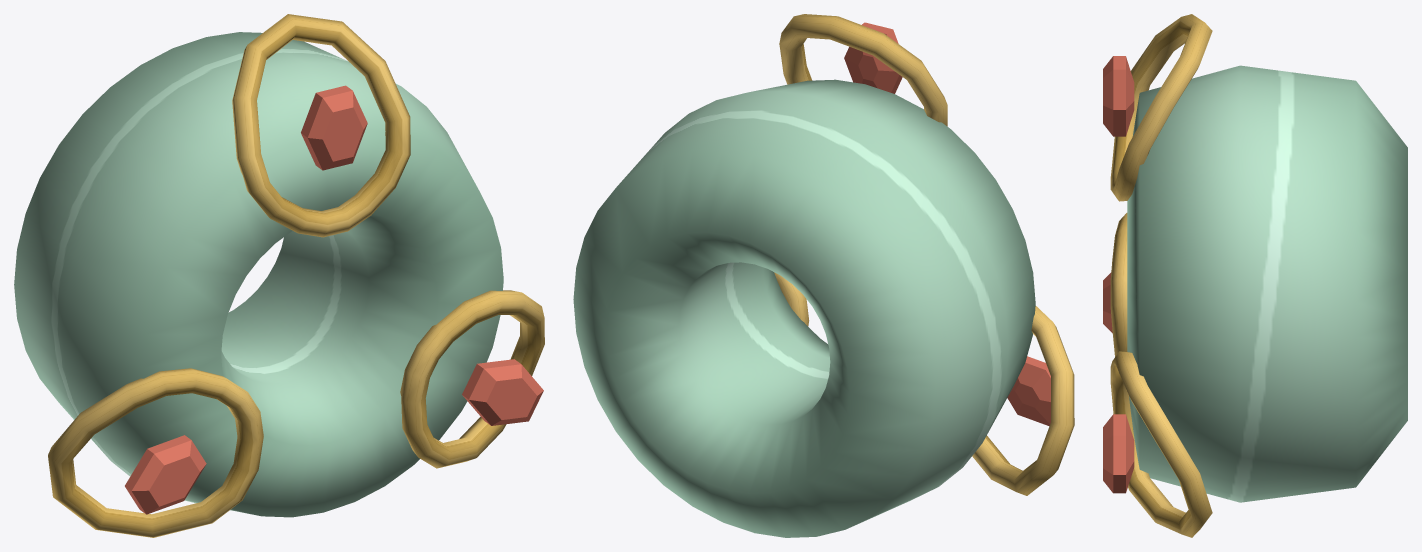
The model's file is thrice_blessed_bead.obj.
The picture shows the model from 3 angles, left to right: view 1: azimuth 30°, elevation 25°; view 2: azimuth 150°, elevation 25°; view 3: azimuth 270°, elevation 25°; orthographic projection. The views are drawn at different scales.
Visible parts, largest first — view 1: A_OpalescentDrilledBead.001_thrice_blessed_bead_glass, B_LinkedPrayerLeaf0.001_thrice_blessed_bead_gold, B_LinkedPrayerLeaf2.001_thrice_blessed_bead_gold, B_LinkedPrayerLeaf1.001_thrice_blessed_bead_gold, C_PrayerStone2.001_thrice_blessed_bead_prayer_stones, C_PrayerStone0.001_thrice_blessed_bead_prayer_stones, C_PrayerStone1.001_thrice_blessed_bead_prayer_stones; view 2: A_OpalescentDrilledBead.001_thrice_blessed_bead_glass, B_LinkedPrayerLeaf0.001_thrice_blessed_bead_gold, B_LinkedPrayerLeaf2.001_thrice_blessed_bead_gold, C_PrayerStone2.001_thrice_blessed_bead_prayer_stones, C_PrayerStone0.001_thrice_blessed_bead_prayer_stones, B_LinkedPrayerLeaf1.001_thrice_blessed_bead_gold; view 3: A_OpalescentDrilledBead.001_thrice_blessed_bead_glass, B_LinkedPrayerLeaf1.001_thrice_blessed_bead_gold, B_LinkedPrayerLeaf0.001_thrice_blessed_bead_gold, C_PrayerStone0.001_thrice_blessed_bead_prayer_stones, C_PrayerStone1.001_thrice_blessed_bead_prayer_stones, B_LinkedPrayerLeaf2.001_thrice_blessed_bead_gold, C_PrayerStone2.001_thrice_blessed_bead_prayer_stones.
Boxes of the visible parts, left/top/right/bottom form: A_OpalescentDrilledBead.001_thrice_blessed_bead_glass: left=14, top=32, right=503, bottom=517; B_LinkedPrayerLeaf0.001_thrice_blessed_bead_gold: left=232, top=14, right=410, bottom=237; B_LinkedPrayerLeaf2.001_thrice_blessed_bead_gold: left=48, top=368, right=263, bottom=537; B_LinkedPrayerLeaf1.001_thrice_blessed_bead_gold: left=400, top=290, right=544, bottom=468; C_PrayerStone2.001_thrice_blessed_bead_prayer_stones: left=125, top=435, right=206, bottom=514; C_PrayerStone0.001_thrice_blessed_bead_prayer_stones: left=301, top=85, right=367, bottom=170; C_PrayerStone1.001_thrice_blessed_bead_prayer_stones: left=462, top=359, right=543, bottom=425; A_OpalescentDrilledBead.001_thrice_blessed_bead_glass: left=573, top=79, right=1035, bottom=537; B_LinkedPrayerLeaf0.001_thrice_blessed_bead_gold: left=779, top=14, right=947, bottom=126; B_LinkedPrayerLeaf2.001_thrice_blessed_bead_gold: left=972, top=306, right=1074, bottom=495; C_PrayerStone2.001_thrice_blessed_bead_prayer_stones: left=1007, top=356, right=1050, bottom=426; C_PrayerStone0.001_thrice_blessed_bead_prayer_stones: left=844, top=22, right=902, bottom=93; B_LinkedPrayerLeaf1.001_thrice_blessed_bead_gold: left=774, top=272, right=809, bottom=326; A_OpalescentDrilledBead.001_thrice_blessed_bead_glass: left=1127, top=65, right=1407, bottom=502; B_LinkedPrayerLeaf1.001_thrice_blessed_bead_gold: left=1110, top=351, right=1212, bottom=537; B_LinkedPrayerLeaf0.001_thrice_blessed_bead_gold: left=1110, top=14, right=1212, bottom=201; C_PrayerStone0.001_thrice_blessed_bead_prayer_stones: left=1103, top=56, right=1134, bottom=136; C_PrayerStone1.001_thrice_blessed_bead_prayer_stones: left=1103, top=414, right=1134, bottom=493; B_LinkedPrayerLeaf2.001_thrice_blessed_bead_gold: left=1110, top=213, right=1127, bottom=356; C_PrayerStone2.001_thrice_blessed_bead_prayer_stones: left=1103, top=272, right=1112, bottom=332.
Size of the model in its own units: 1.73 by 1.67 by 1.
